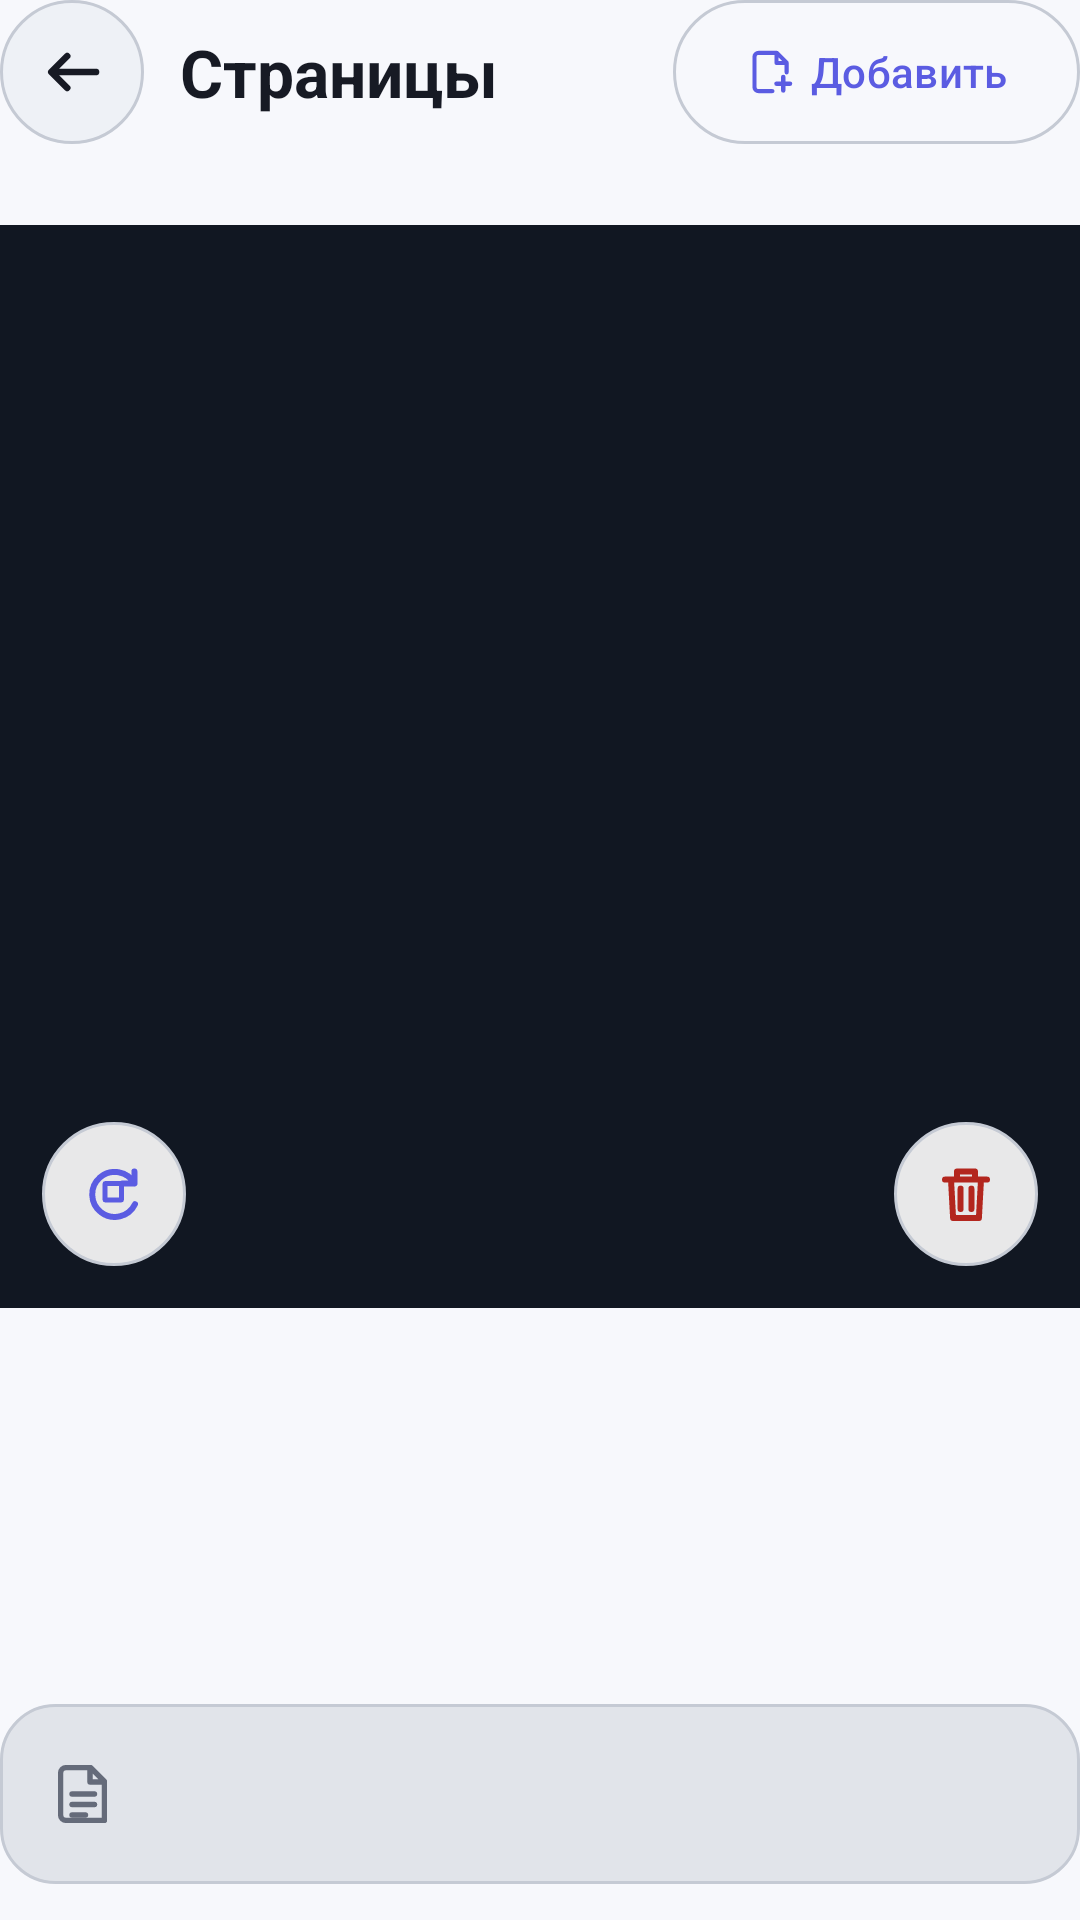

Where icons sit on this 1080 x 1920 app screen, as bbox(x1, y1, x2, y2):
Вернуться на главный экран: bbox(0, 0, 144, 144)
Повернуть страницу по часовой стрелке: bbox(42, 1122, 186, 1266)
Удалить страницу: bbox(894, 1122, 1038, 1266)
